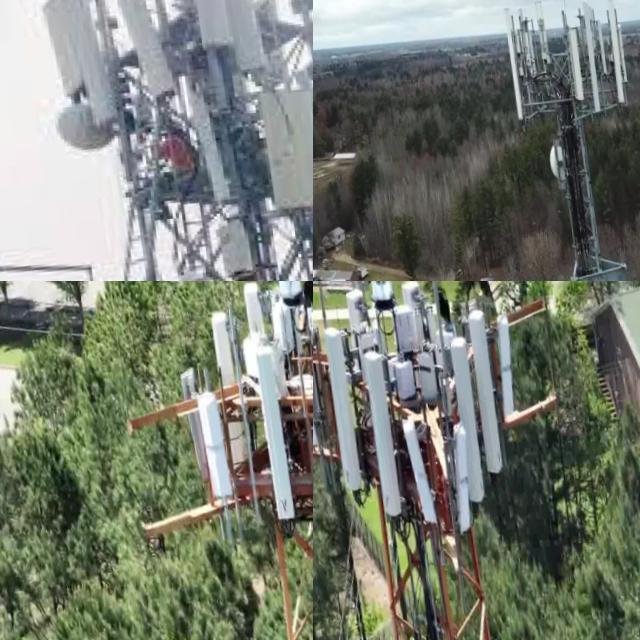GSM Antenna: (61, 0, 188, 114), (34, 0, 128, 129), (239, 330, 297, 531), (318, 320, 365, 513), (250, 87, 313, 225), (359, 343, 403, 526), (461, 306, 508, 477), (442, 328, 486, 508), (154, 0, 239, 61), (496, 0, 533, 136), (174, 365, 213, 483), (394, 415, 434, 526), (196, 393, 234, 506), (443, 414, 475, 543), (492, 315, 523, 425), (206, 308, 240, 392), (600, 0, 627, 102), (576, 0, 599, 117), (236, 281, 268, 344), (560, 28, 585, 106)
Microwave Antenna: (43, 101, 118, 165), (540, 138, 568, 196)
